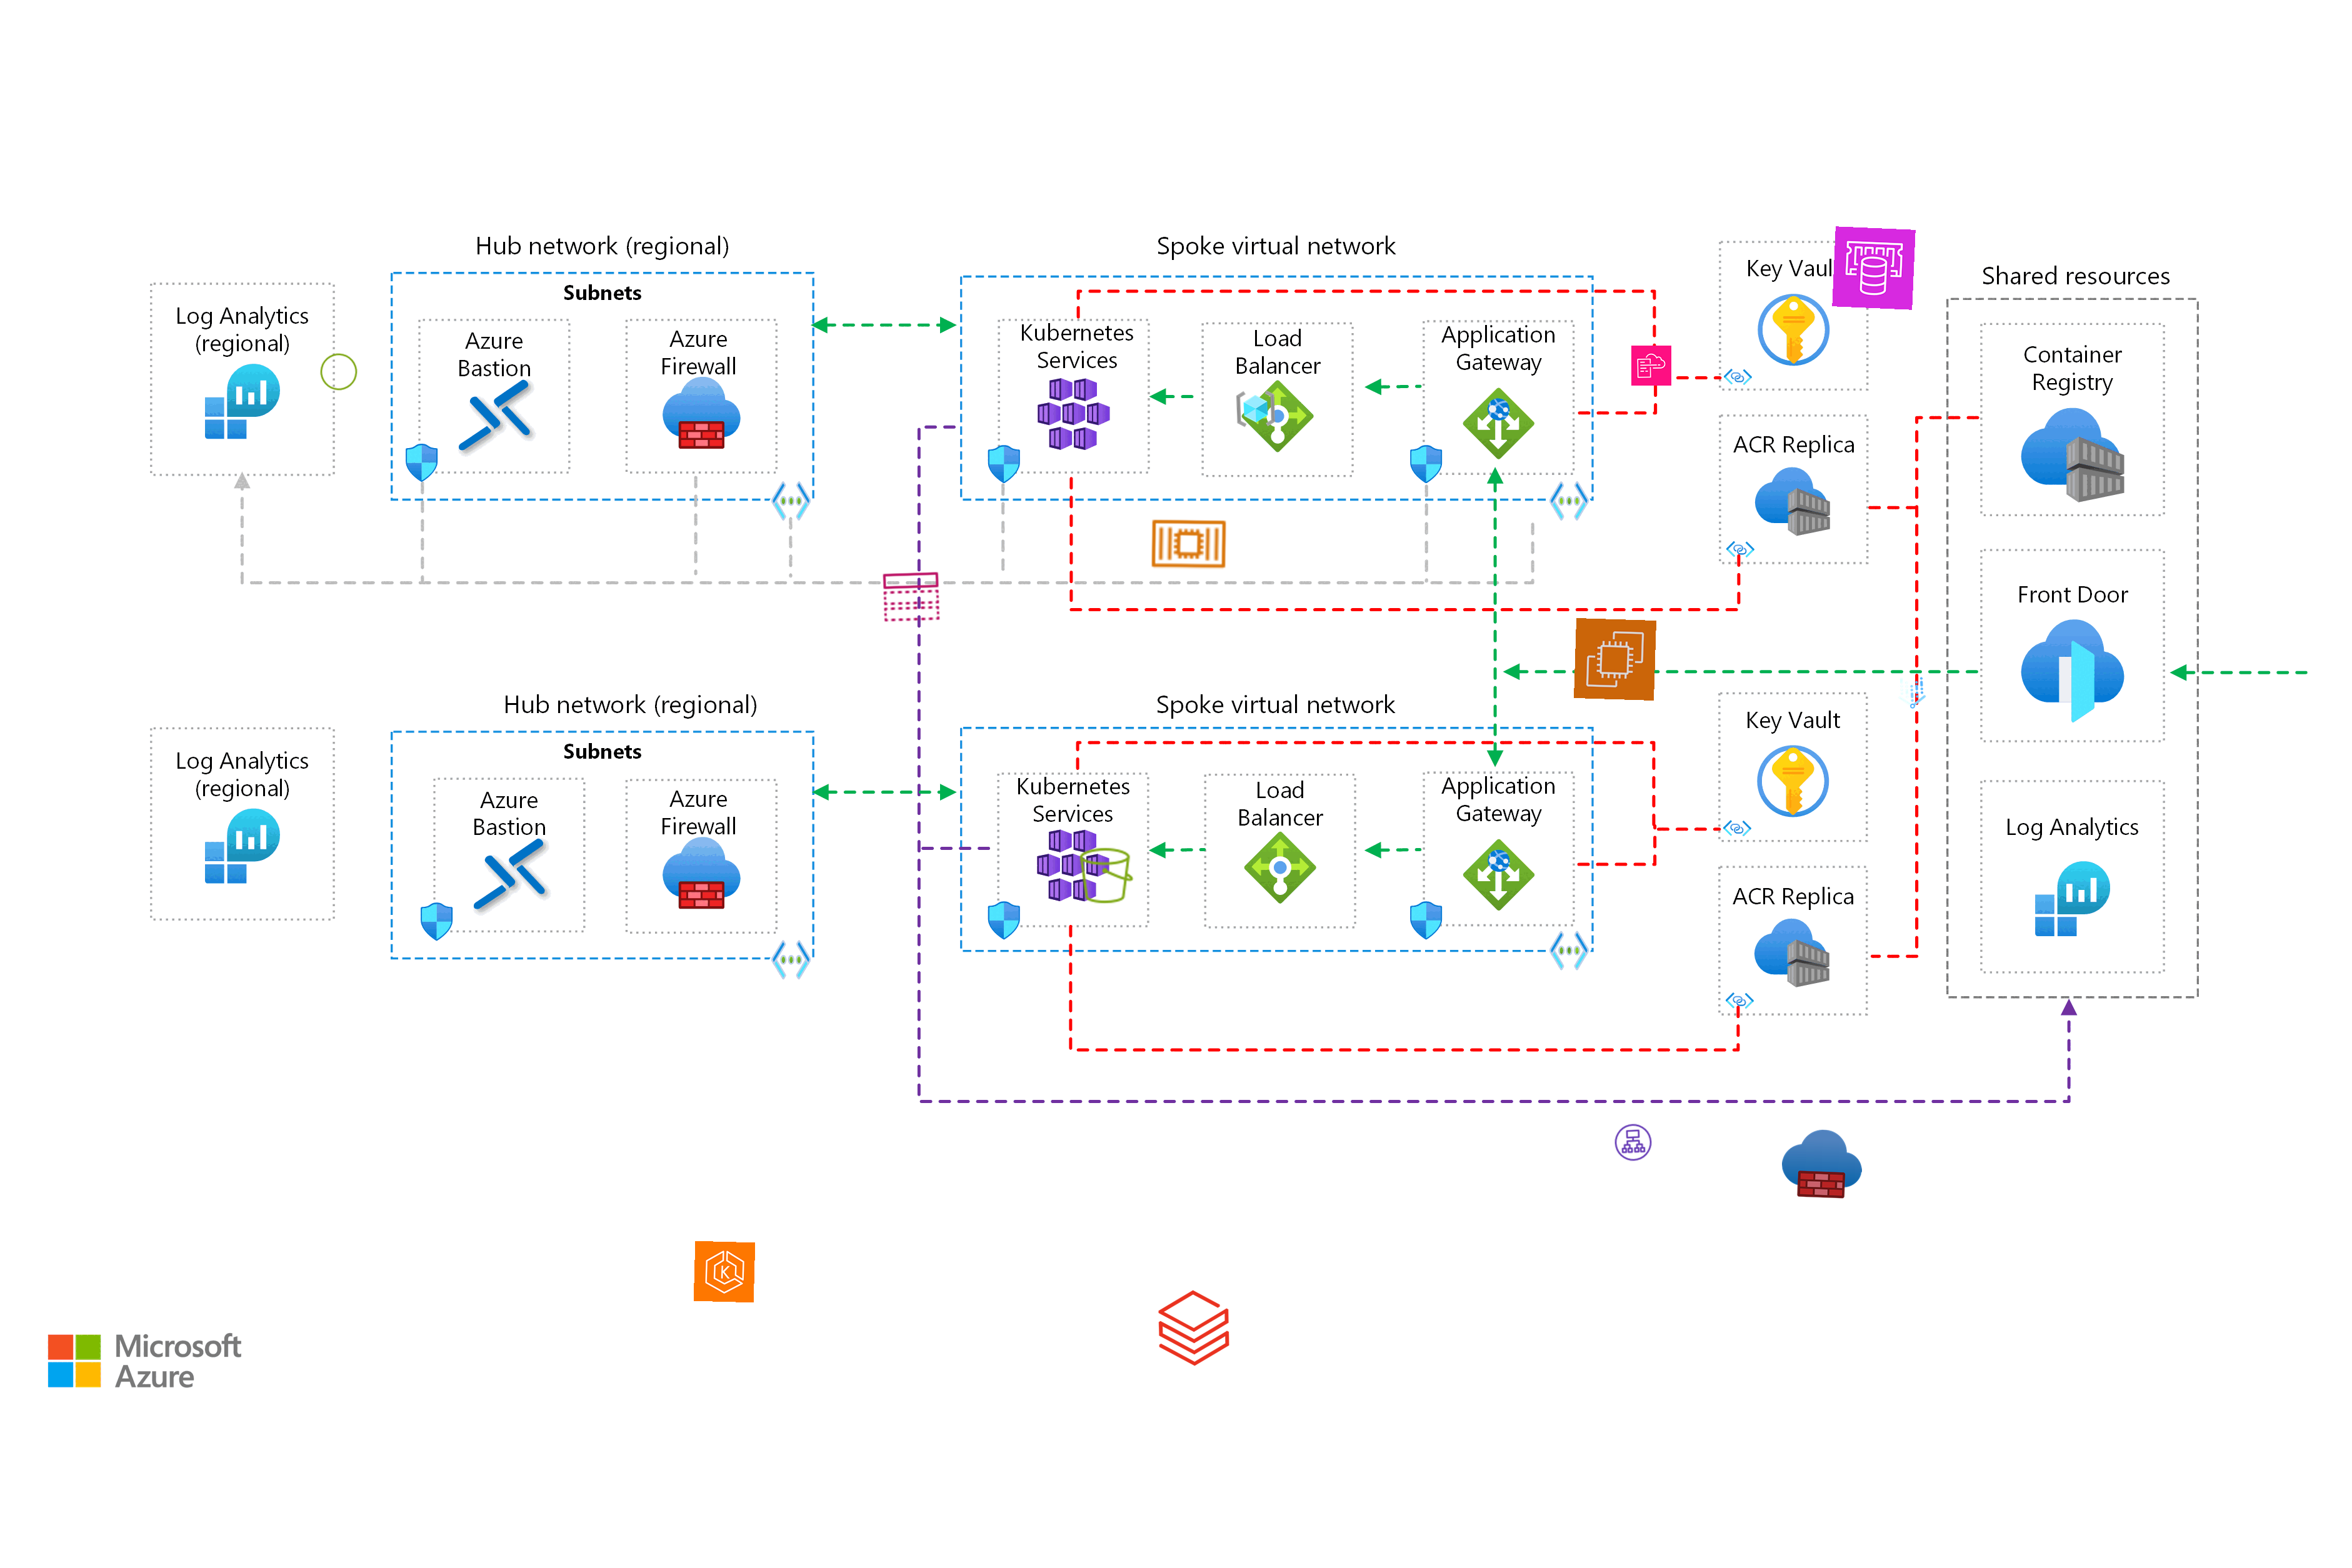aws_amazon_ec2: (1573, 618, 1656, 700)
aws_amazon_elastic_kubernetes_service: (693, 1241, 756, 1304)
aws_amazon_elasticache: (1832, 226, 1916, 310)
aws_cloudformation: (1631, 345, 1671, 387)
aws_elastic_container_service_container_2: (1148, 502, 1230, 584)
aws_elastic_load_balancing_application_load_balancer: (1612, 1122, 1654, 1164)
aws_simple_notification_service_topic: (880, 565, 943, 628)
aws_simple_storage_service_bucket: (1076, 845, 1137, 906)
aws_simple_storage_service_object: (317, 350, 360, 394)
azure_databricks: (1153, 1286, 1235, 1369)
azure_firewalls: (1780, 1122, 1864, 1206)
azure_resource_groups: (1234, 387, 1277, 430)
gcp_vertex_ai: (1890, 672, 1934, 714)
